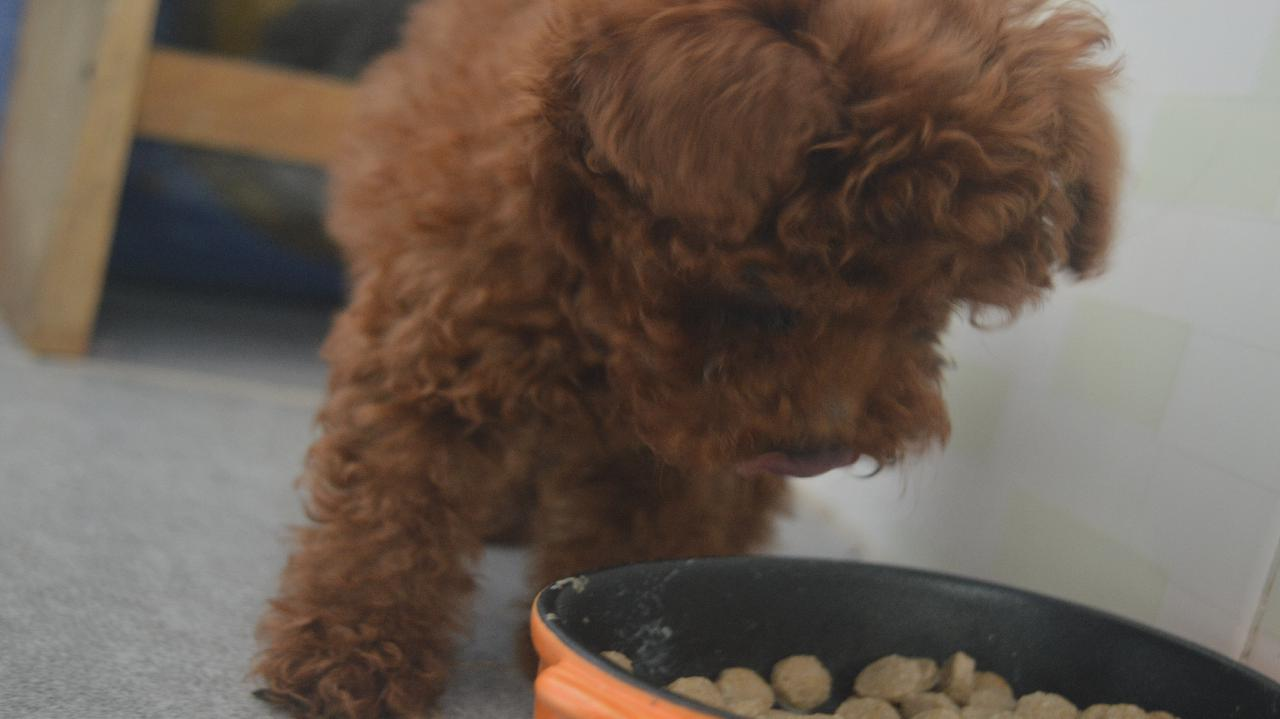coin: (305, 5, 1124, 715)
